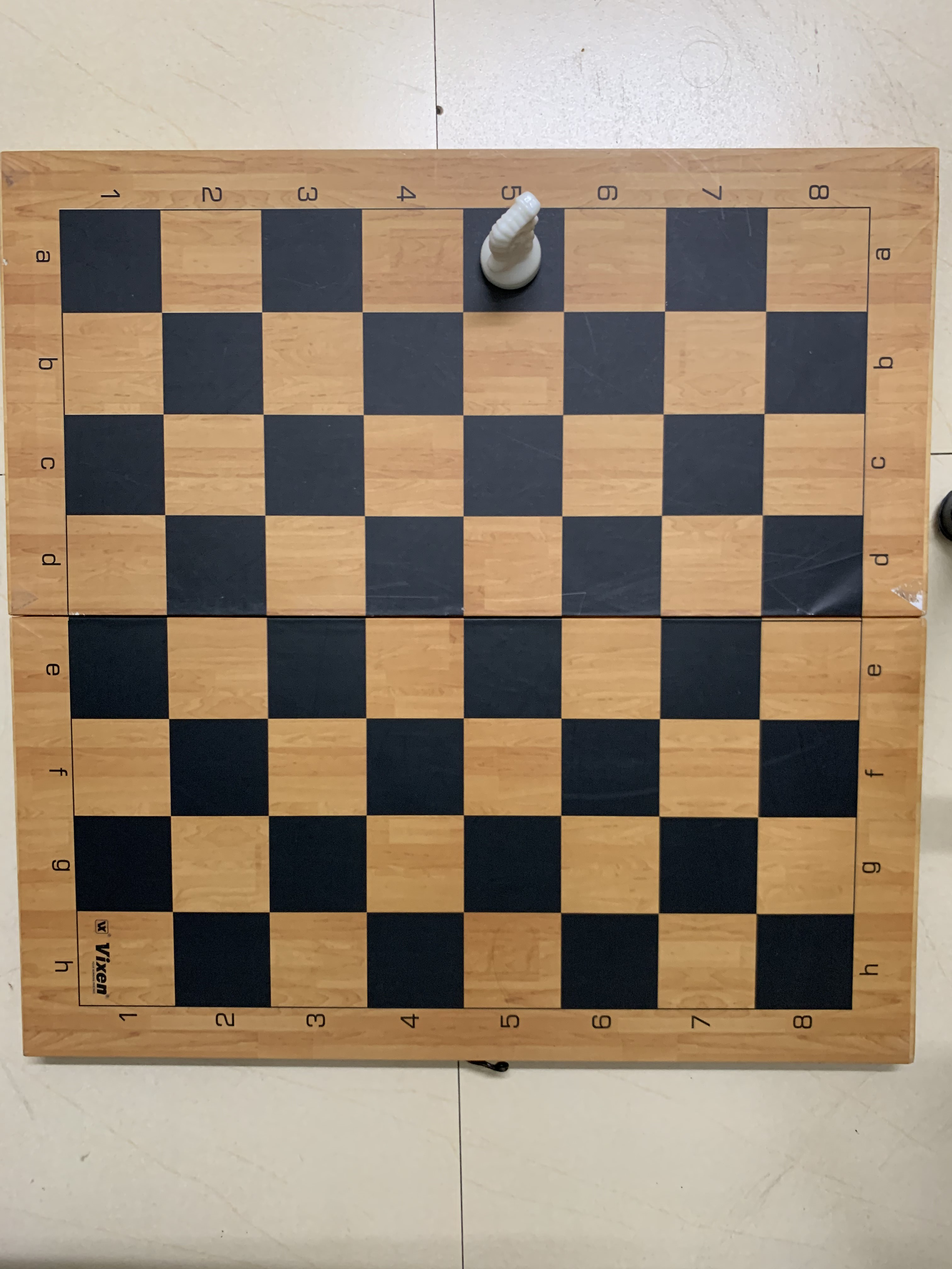white_knight: (466, 193, 561, 306)
